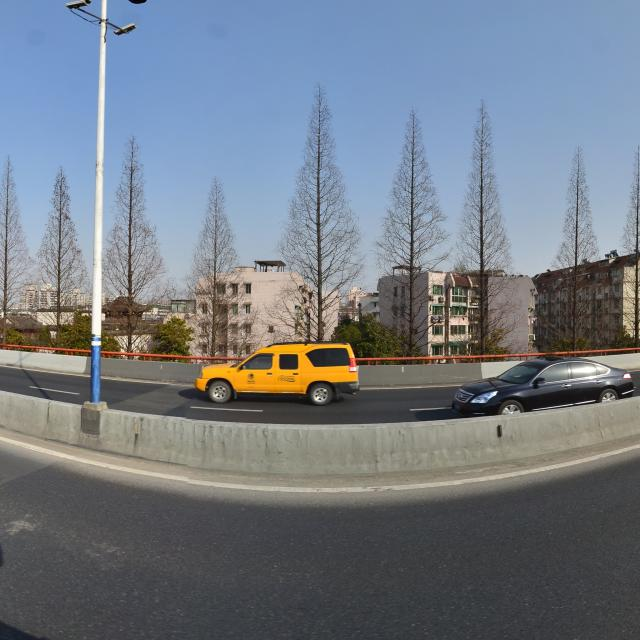car: (450, 359, 634, 417), (196, 343, 363, 402)
pole: (86, 31, 112, 395)
